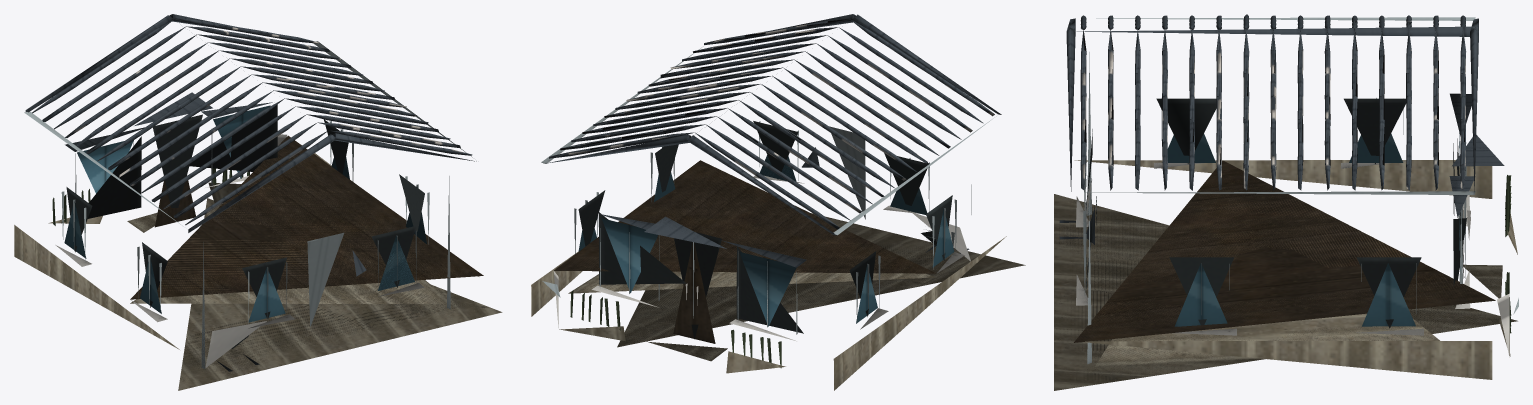
The model's file is residential_013.obj.
The picture shows the model from 3 angles, left to right: view 1: azimuth 30°, elevation 25°; view 2: azimuth 150°, elevation 25°; view 3: azimuth 270°, elevation 25°; orthographic projection. The views are drawn at different scales.
Parts seen in each view (by area): view 1: residential_013; view 2: residential_013; view 3: residential_013.
Part boxes in pixels (x1,y1,x2,y2): residential_013: (14,14,502,390); residential_013: (531,14,1025,390); residential_013: (1054,14,1518,390).
Size of the model in its own units: 7.25 by 4.56 by 7.25.
Materials: 1 (1 with a texture image).
